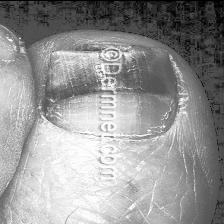Toxin: (40, 48, 178, 142)
